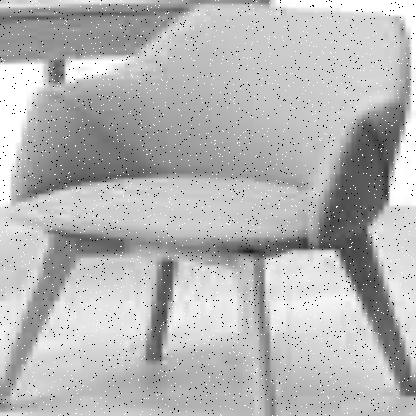chair: (5, 0, 416, 416)
